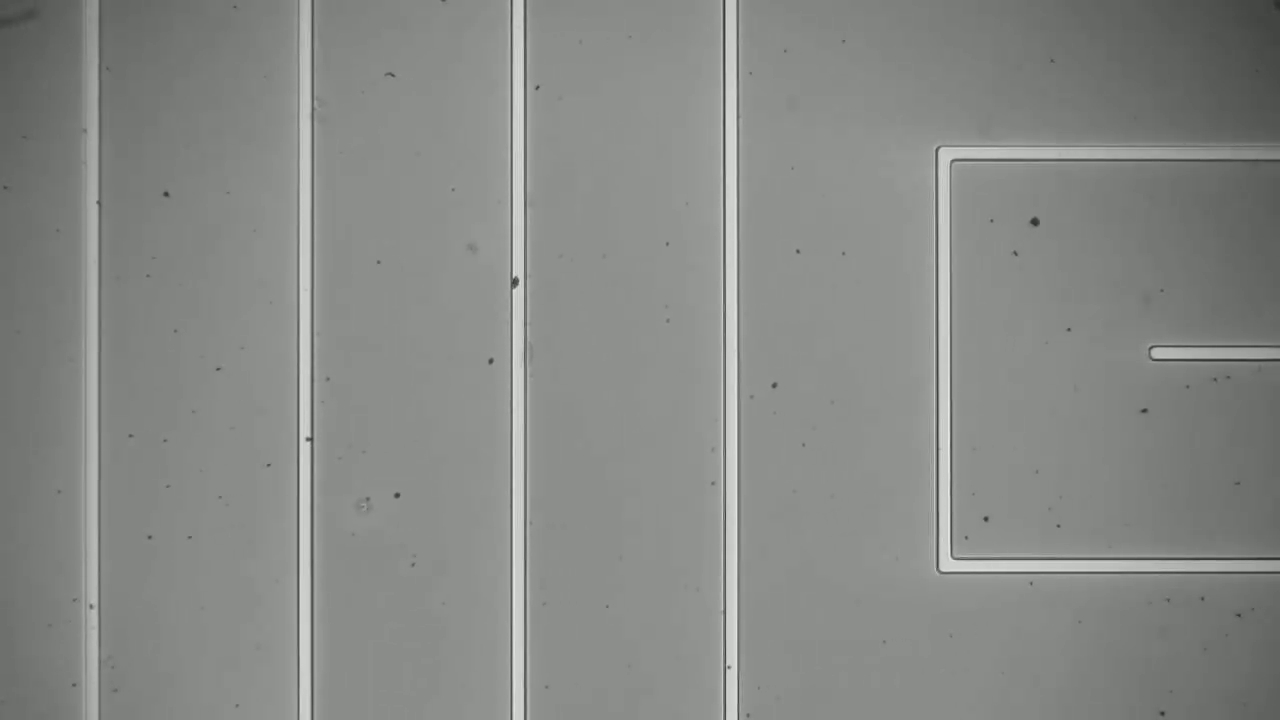stains_enbedded: (504, 270, 534, 295)
